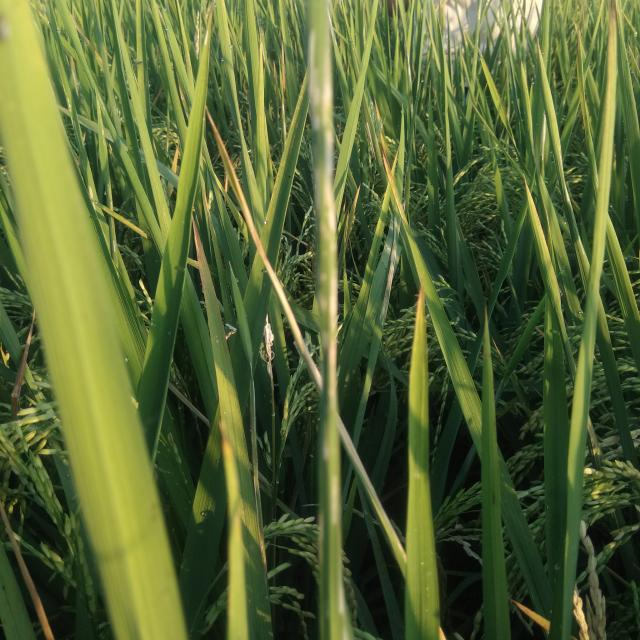Bacterial leaf blight: (308, 260, 346, 472), (308, 133, 344, 239), (305, 24, 336, 134), (378, 212, 398, 327), (333, 543, 354, 621), (312, 504, 328, 578), (324, 471, 343, 529)
